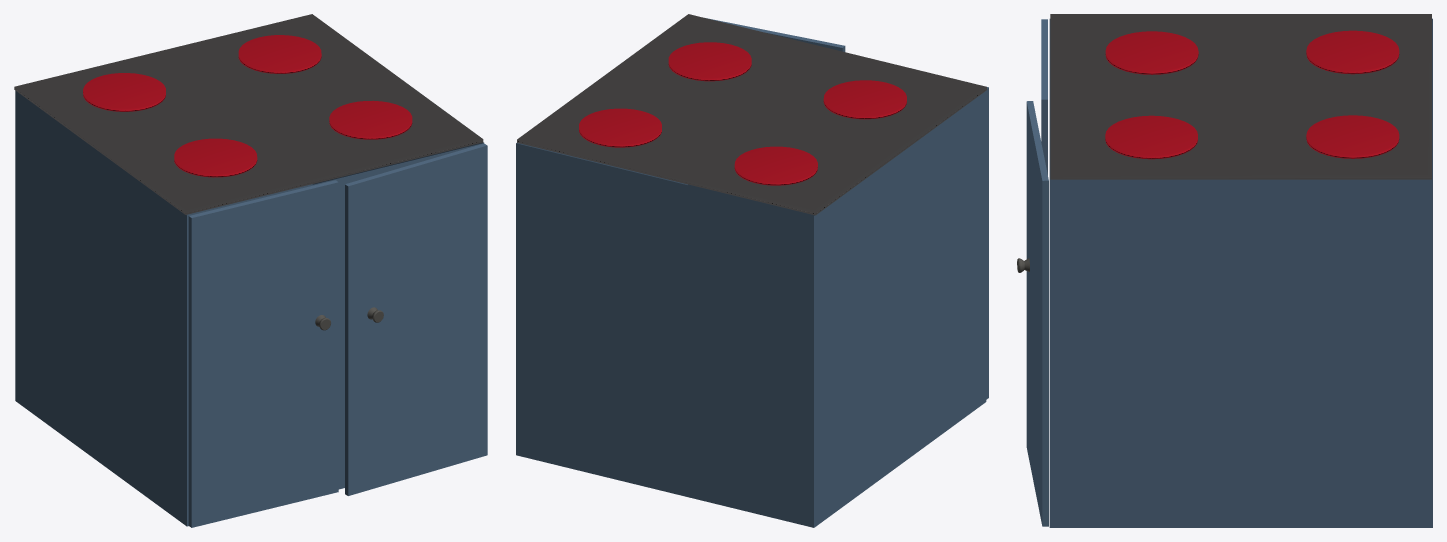
The model's file is plita.fbx.
3 views of the same model, side by side, from view 1: azimuth 30°, elevation 25°; view 2: azimuth 150°, elevation 25°; view 3: azimuth 270°, elevation 25° (orthographic). The views are drawn at different scales.
Parts seen in each view (by area): view 1: Cube.007, DOOR.014, DOOR.015, Cube.042, Cylinder.025, Cylinder.024, Cylinder.023, Cylinder.022; view 2: Cube.007, Cube.042, Cylinder.024, Cylinder.022, Cylinder.025, Cylinder.023, DOOR.014, DOOR.015; view 3: Cube.007, Cube.042, DOOR.015, Cylinder.025, Cylinder.023, Cylinder.022, Cylinder.024, DOOR.014.
Boxes of the visible parts, box(x1,y1,x2,y2) form: Cube.007: box(15, 90, 483, 526); DOOR.014: box(188, 180, 338, 527); DOOR.015: box(345, 143, 487, 495); Cube.042: box(14, 14, 483, 214); Cylinder.025: box(174, 138, 257, 177); Cylinder.024: box(329, 100, 412, 139); Cylinder.023: box(238, 35, 321, 73); Cylinder.022: box(83, 73, 165, 111); Cube.007: box(516, 91, 986, 527); Cube.042: box(517, 14, 986, 215); Cylinder.024: box(668, 42, 751, 81); Cylinder.022: box(734, 146, 817, 185); Cylinder.025: box(823, 80, 906, 119); Cylinder.023: box(579, 108, 661, 147); DOOR.014: box(986, 87, 988, 399); DOOR.015: box(707, 18, 845, 51); Cube.007: box(1049, 18, 1432, 527); Cube.042: box(1050, 14, 1431, 179); DOOR.015: box(1026, 101, 1048, 526); Cylinder.025: box(1105, 31, 1198, 74); Cylinder.023: box(1306, 115, 1399, 158); Cylinder.022: box(1306, 30, 1399, 74); Cylinder.024: box(1105, 115, 1197, 159); DOOR.014: box(1041, 19, 1047, 174).
Size of the model in its own units: 2727 by 2783 by 2947.
